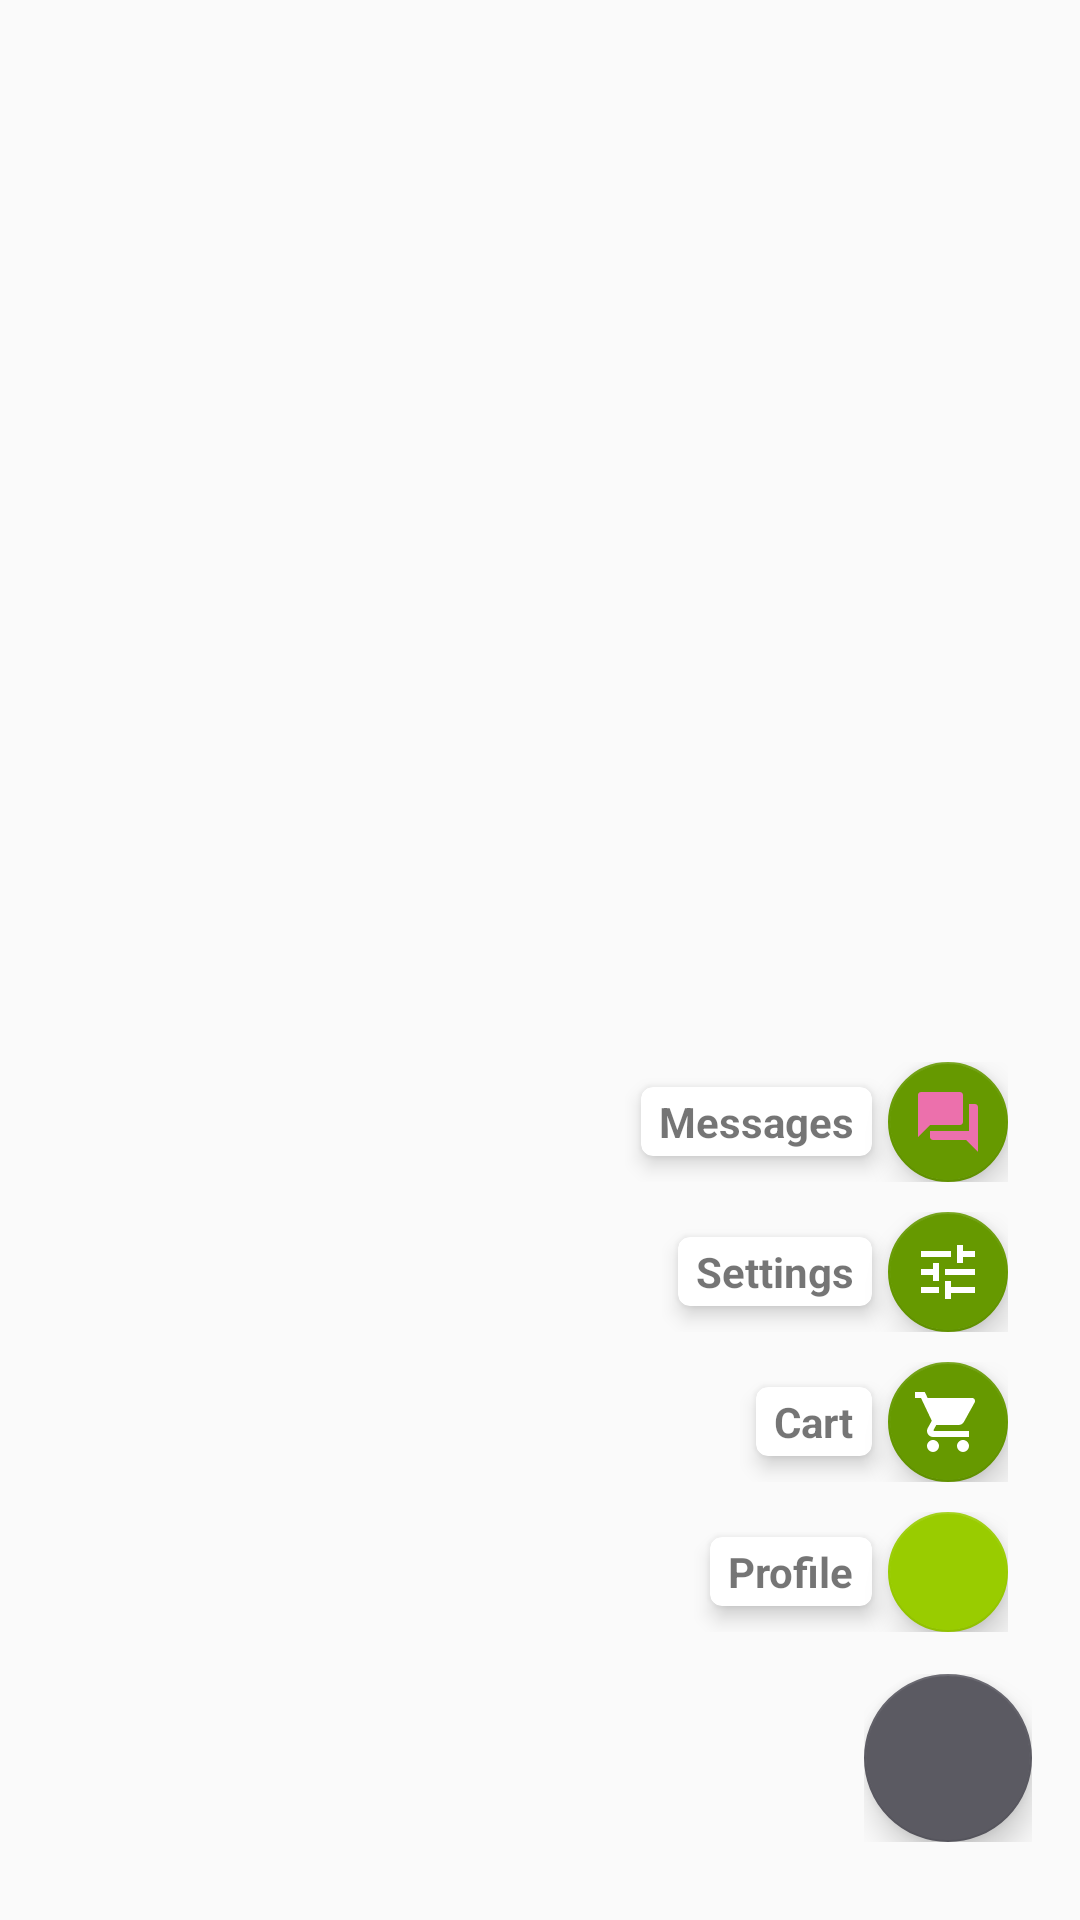

Where icons sit on this 1080px×1920px app screen, as (x1, y1, x2, y2):
question answer: (888, 1062, 1008, 1182)
tune: (888, 1212, 1008, 1332)
